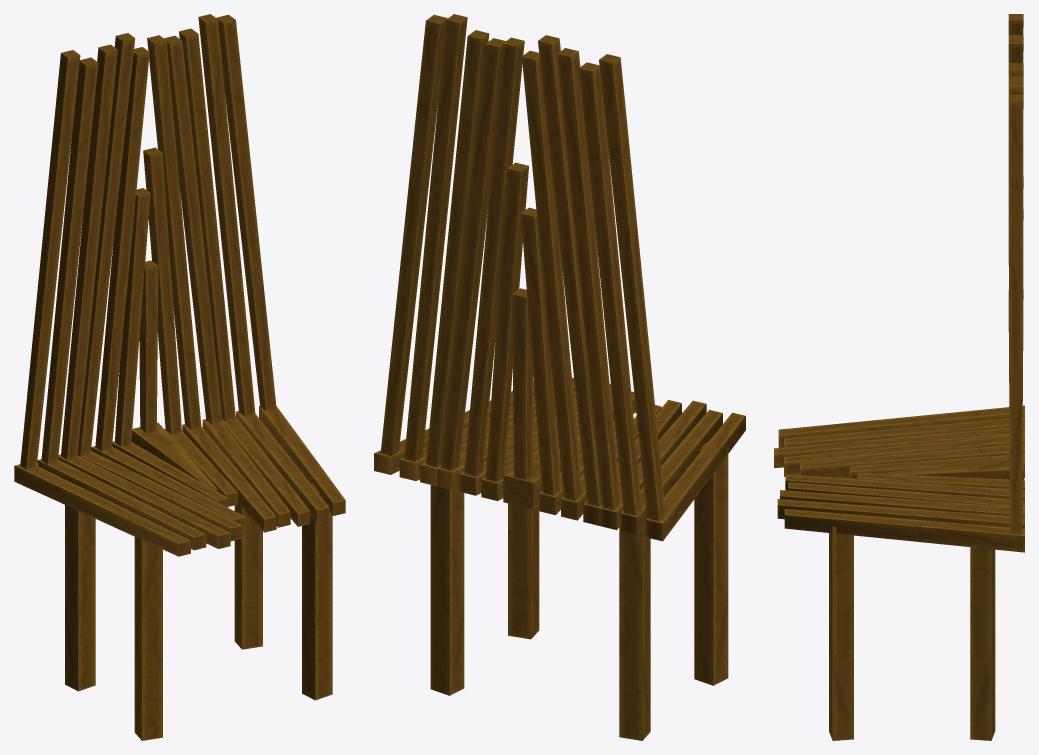
The model's file is Cadeira.fbx.
3 renders of one model, left to right at view 1: azimuth 30°, elevation 25°; view 2: azimuth 150°, elevation 25°; view 3: azimuth 270°, elevation 25°, orthographic. The views are drawn at different scales.
Visible parts, largest first — view 1: Cadeira; view 2: Cadeira; view 3: Cadeira.
Part boxes in pixels (x1=…): Cadeira: x1=14, y1=14, x2=345, y2=740; Cadeira: x1=374, y1=14, x2=745, y2=740; Cadeira: x1=774, y1=14, x2=1024, y2=740.
Size of the model in its own units: 67.91 by 155 by 55.11.
1 material, 1 textured.
